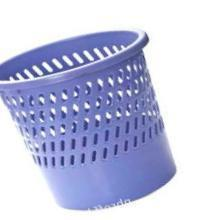Bote de Basura: (0, 31, 171, 211)
